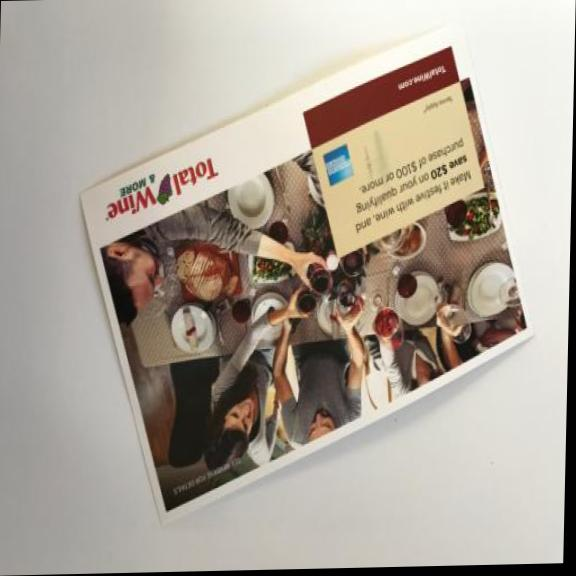Kertas: (64, 38, 542, 532)
